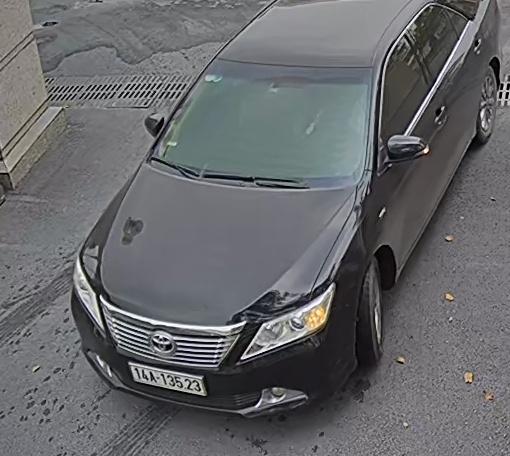vehicle plate: (123, 356, 207, 401)
